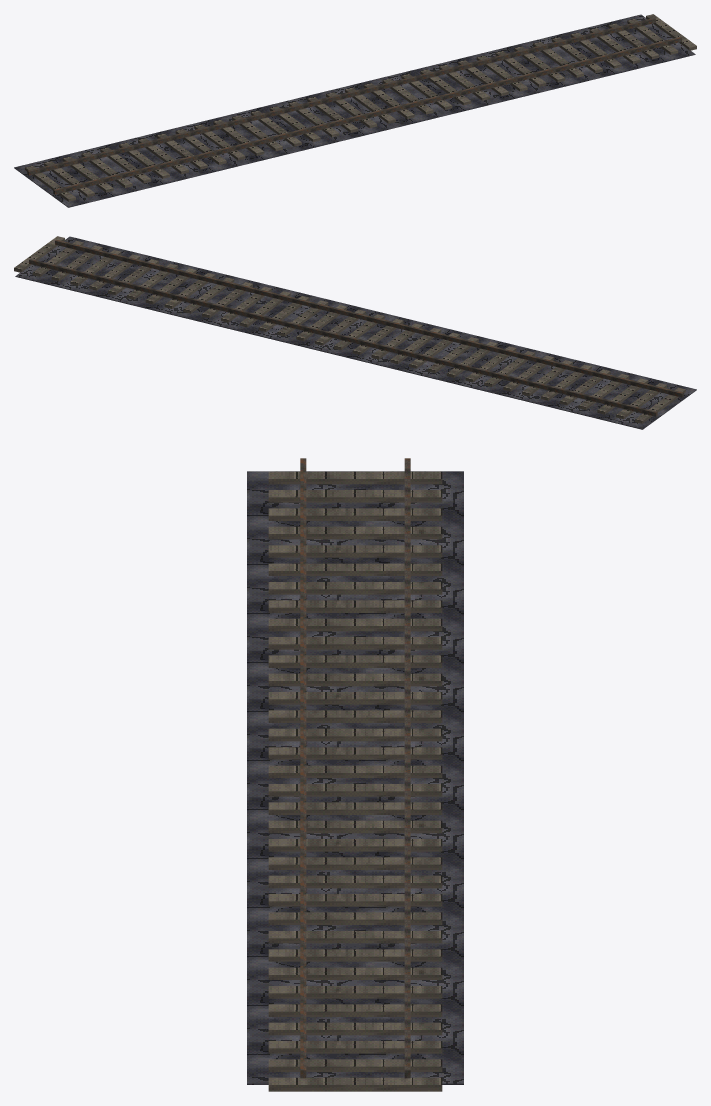
File: via.obj
3 renders of one model, top to bottom at view 1: azimuth 30°, elevation 25°; view 2: azimuth 150°, elevation 25°; view 3: azimuth 270°, elevation 25°, orthographic. The views are drawn at different scales.
Visible parts, largest first — view 1: via; view 2: via; view 3: via.
Part boxes in pixels (box(x1,y1,x2,y2)): via: box(14, 14, 696, 207); via: box(14, 236, 696, 429); via: box(247, 458, 463, 1091).
Bounding box in the file's own units: 20.22 × 0.22 × 3.
Materials: 3 (3 with a texture image).
